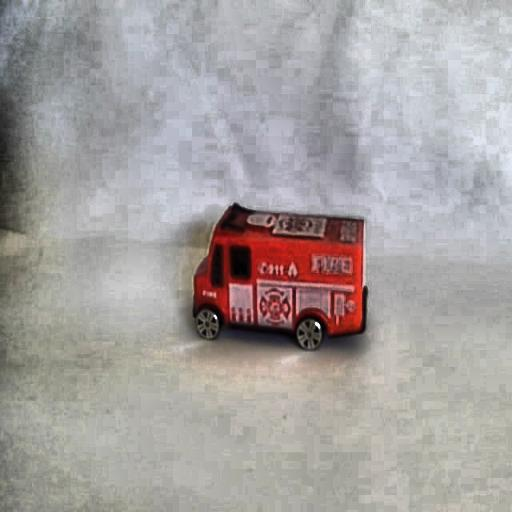fire_truck: (185, 196, 370, 365)
